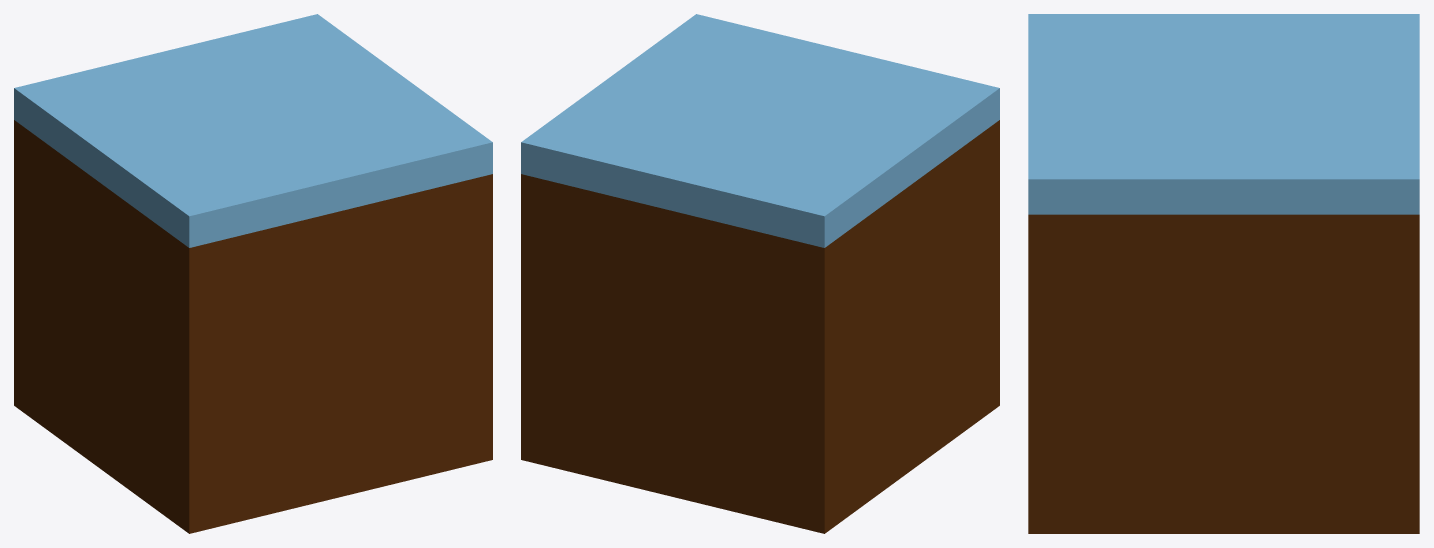
The model's file is EnemyCube.obj.
3 views of the same model, side by side, from view 1: azimuth 30°, elevation 25°; view 2: azimuth 150°, elevation 25°; view 3: azimuth 270°, elevation 25° (orthographic). The views are drawn at different scales.
Visible parts, largest first — view 1: EnemyCube; view 2: EnemyCube; view 3: EnemyCube.
Part boxes in pixels (bbox=[...]): EnemyCube: bbox=[14, 14, 492, 533]; EnemyCube: bbox=[521, 14, 999, 533]; EnemyCube: bbox=[1028, 14, 1419, 533].
Bounding box in the file's own units: 10 × 10 × 10.
1 material, 1 textured.
